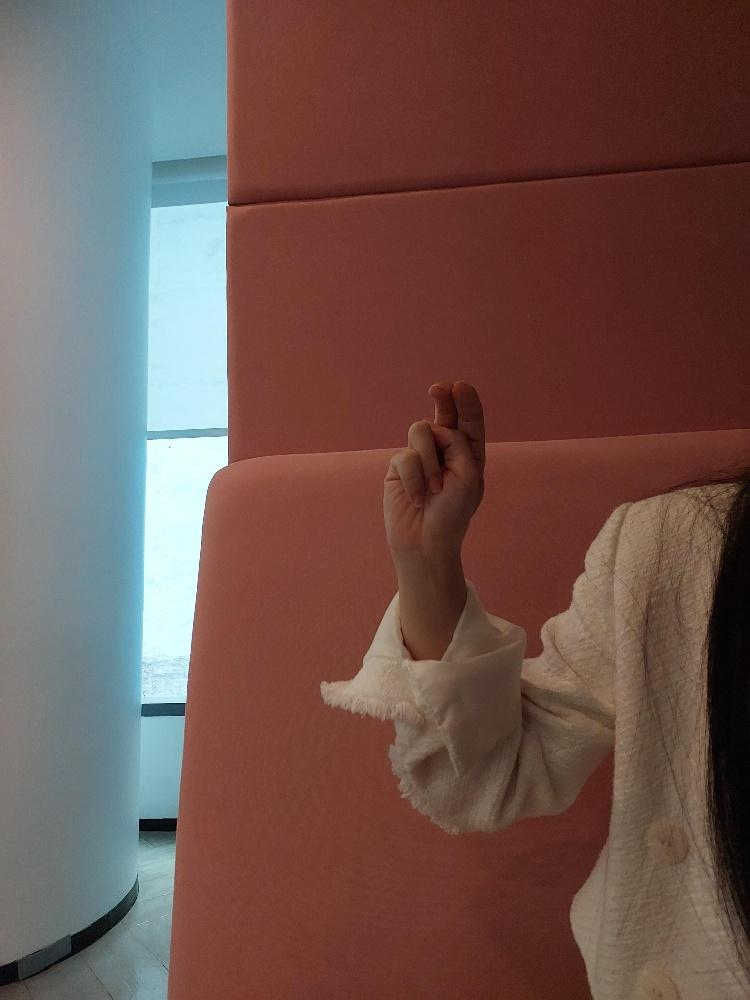n: (382, 377, 487, 545)
